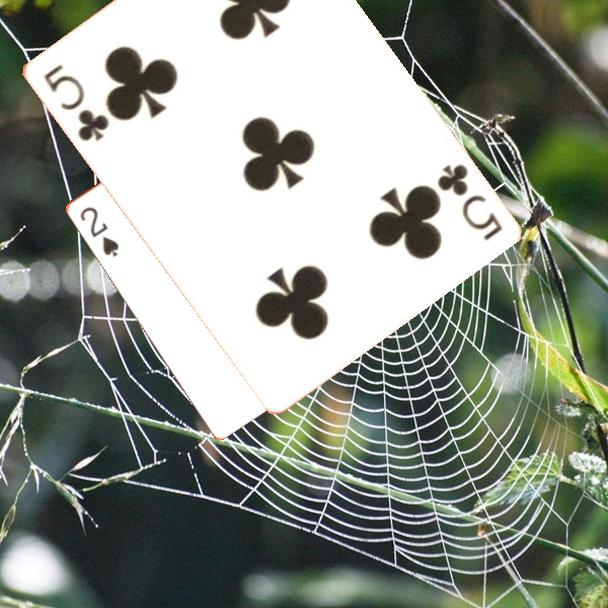c05: (39, 60, 112, 145), (432, 160, 505, 243)
s02: (76, 203, 121, 260)
